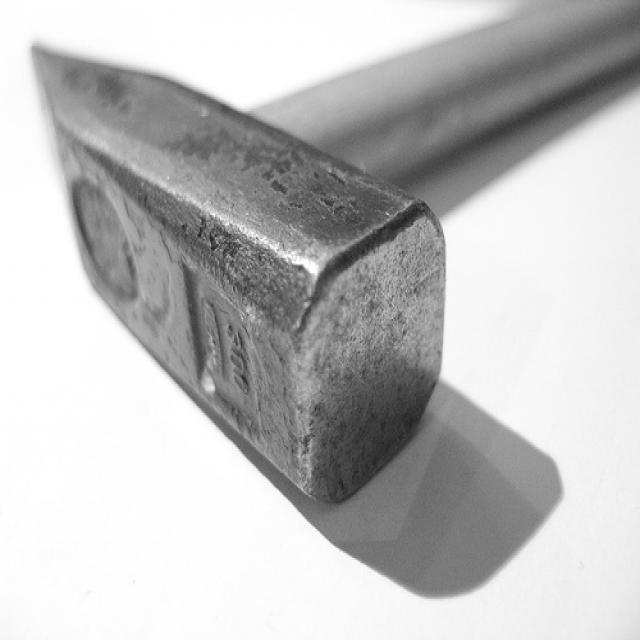hammer: (16, 20, 640, 518)
